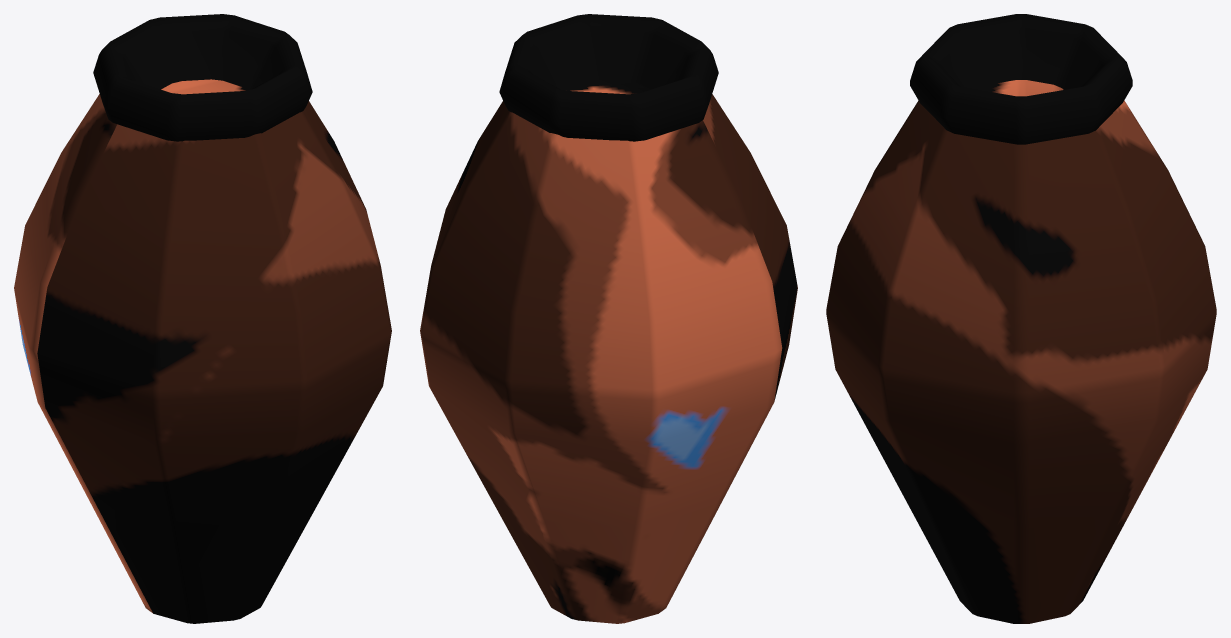
File: Pot2.fbx
3 views of the same model, side by side, from view 1: azimuth 30°, elevation 25°; view 2: azimuth 150°, elevation 25°; view 3: azimuth 270°, elevation 25° (orthographic).
Visible parts, largest first — view 1: polySurface12, polySurface17; view 2: polySurface12, polySurface17; view 3: polySurface12, polySurface17.
Boxes of the visible parts, <box> form: polySurface12: <box>14,94,391,623</box>; polySurface17: <box>93,14,312,141</box>; polySurface12: <box>420,94,797,623</box>; polySurface17: <box>499,14,718,141</box>; polySurface12: <box>826,100,1216,623</box>; polySurface17: <box>910,14,1132,144</box>.
Bounding box in the file's own units: 1.62 × 2.48 × 1.62.
